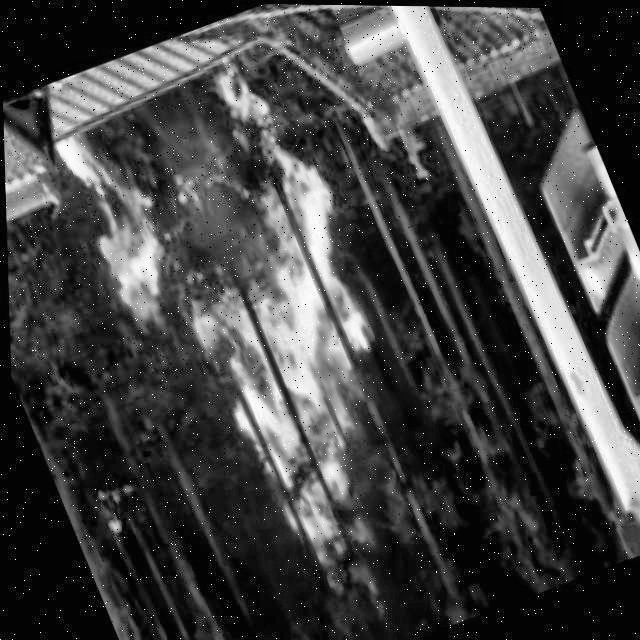Fire: (50, 49, 451, 591)
